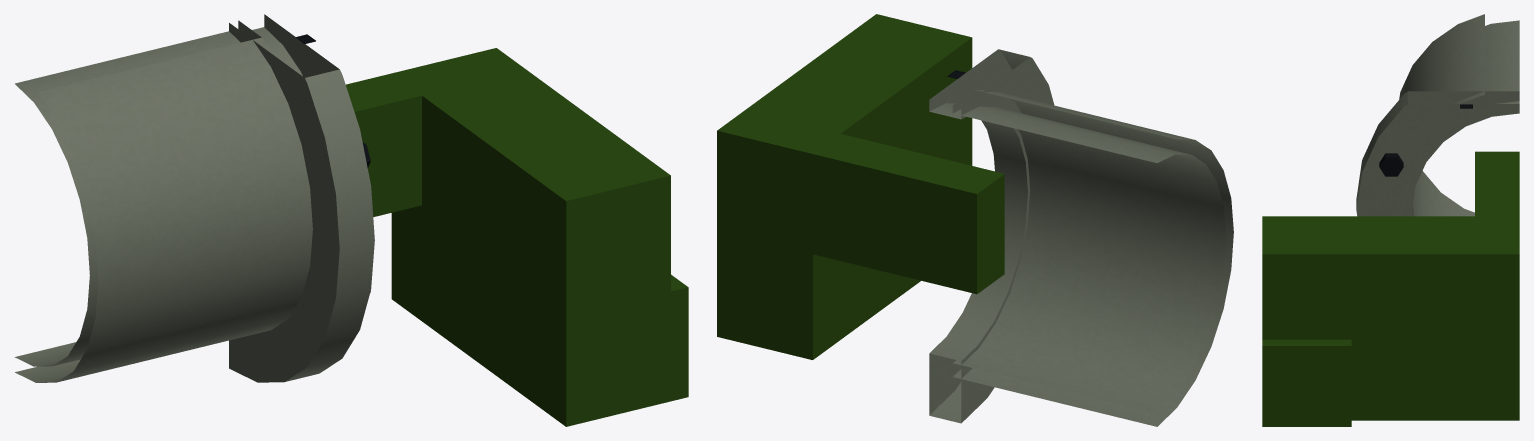
File: cell_7.obj
3 views of the same model, side by side, from view 1: azimuth 30°, elevation 25°; view 2: azimuth 150°, elevation 25°; view 3: azimuth 270°, elevation 25° (orthographic). The views are drawn at different scales.
Parts seen in each view (by area): view 1: cell_7; view 2: cell_7; view 3: cell_7.
Boxes of the visible parts, x1,y1,x2,y2 form: cell_7: (14,14,688,426); cell_7: (717,14,1233,426); cell_7: (1262,14,1519,426).
Size of the model in its own units: 1 by 0.6617 by 0.605.
